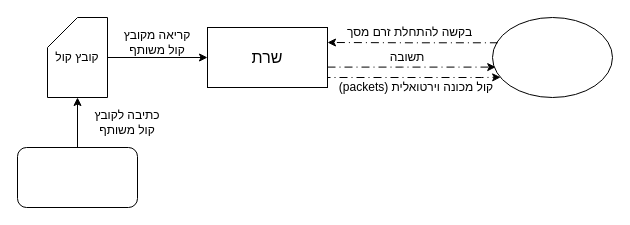
Image size: 630x225. Some labels were removed from this diagram. Each missing label, with the box of its shape:
לקוח: (492, 16, 612, 98)
מכונה וירטואלית: (16, 146, 138, 208)
